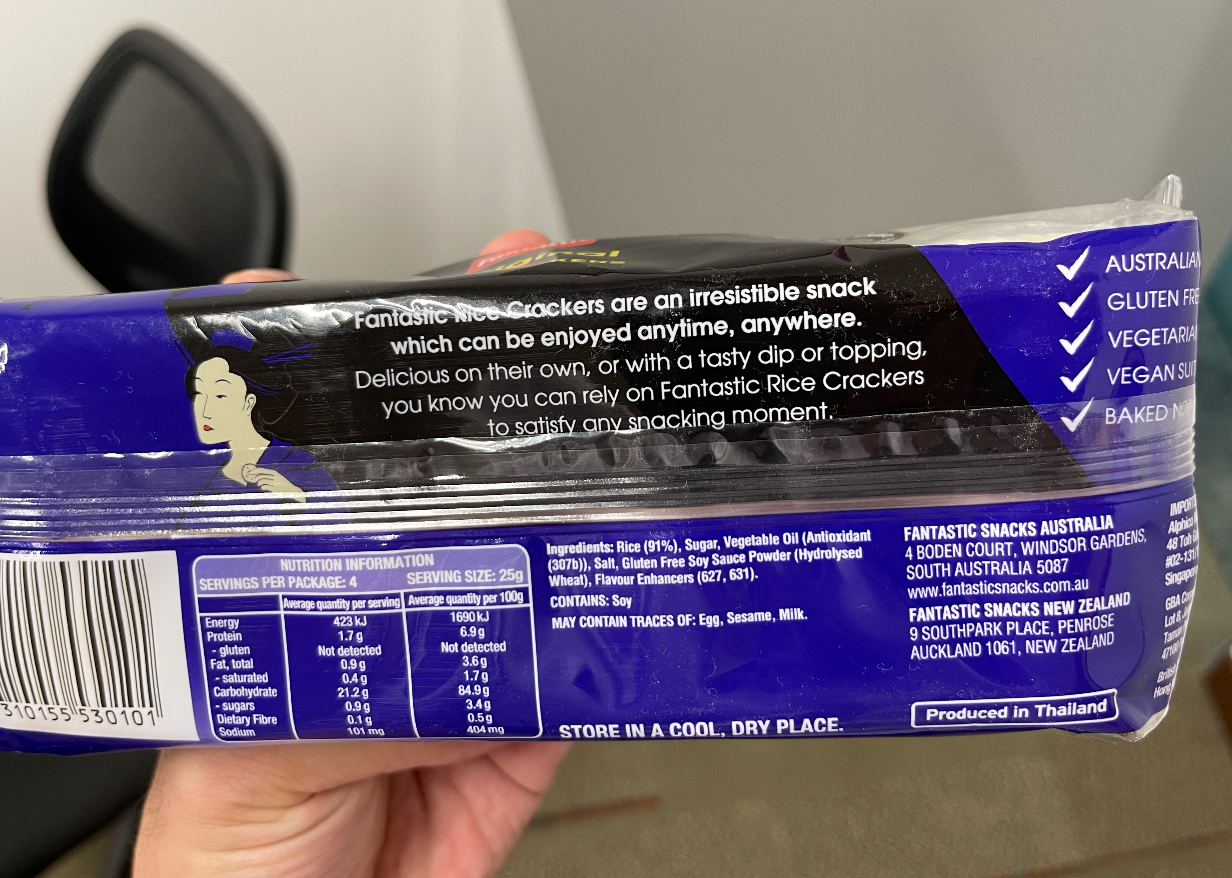crackers_100g-199g: (35, 306, 1144, 731)
